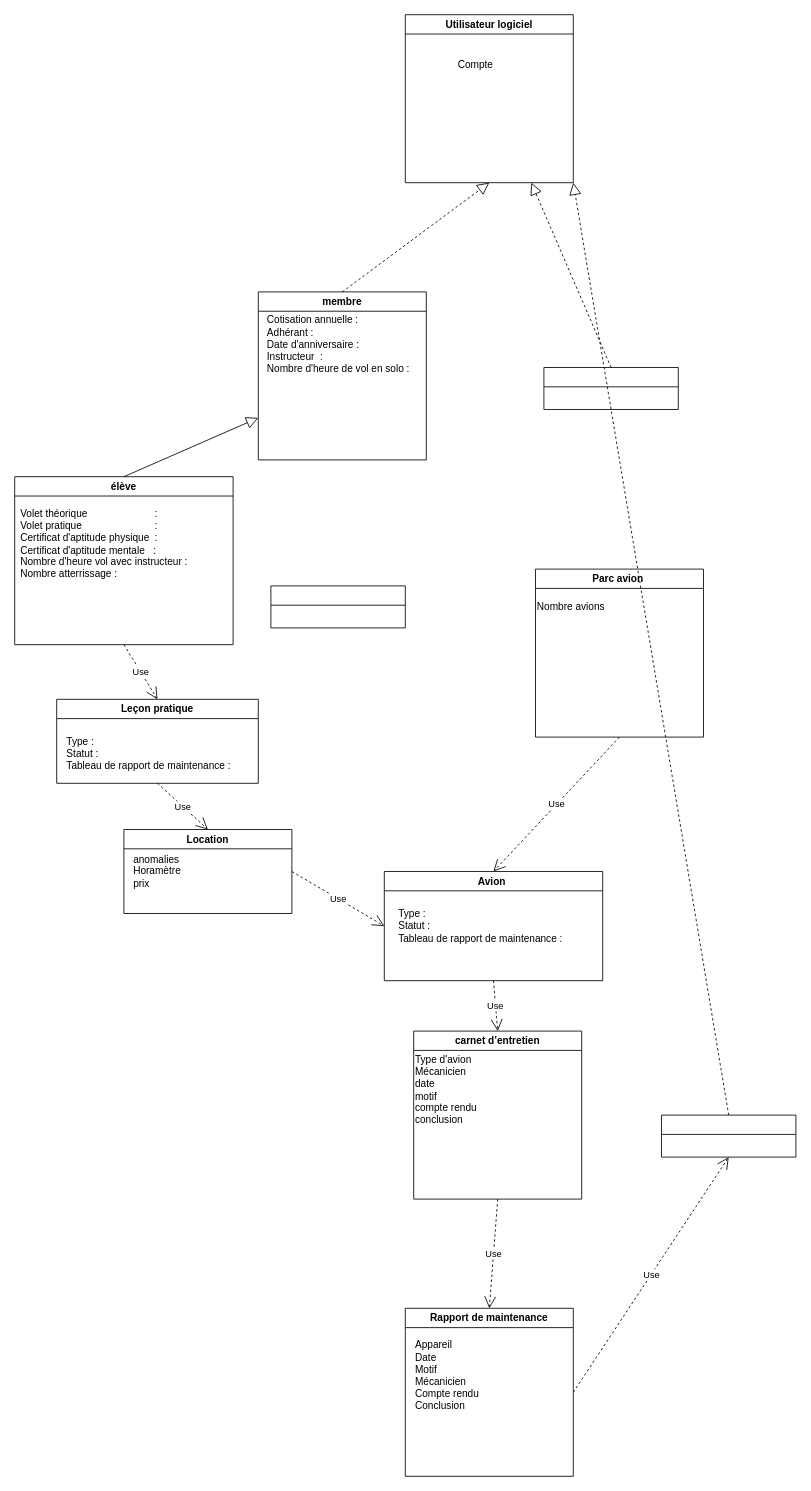
Some shapes in this 811 by 1491 pixel diagram are drawn without their labels. Each missing label, with the centre of its shape:
Instructeur: point (337, 606)
Mécanicien: point (728, 1135)
Secrétaire: point (610, 388)
